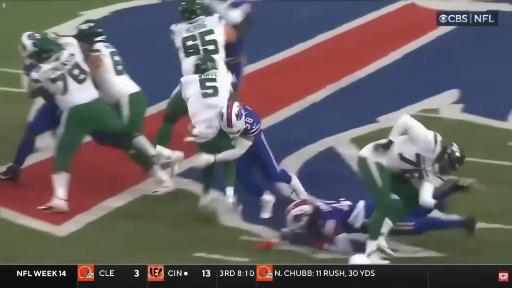Helmet: (19, 32, 62, 63), (436, 143, 465, 174), (286, 200, 314, 231), (74, 20, 106, 44), (222, 102, 245, 135), (19, 32, 41, 59), (180, 0, 204, 21), (195, 55, 217, 74), (348, 254, 370, 264)
Jersey: (29, 38, 98, 110), (360, 129, 443, 187), (171, 14, 227, 76), (180, 71, 232, 130), (90, 43, 141, 103), (312, 199, 365, 235), (240, 106, 261, 136), (226, 39, 245, 62)
Player: (74, 20, 183, 194), (21, 34, 123, 212), (358, 115, 465, 263), (195, 102, 307, 218), (171, 0, 236, 82), (0, 94, 61, 181), (282, 198, 375, 254), (180, 56, 232, 153), (0, 100, 60, 181), (0, 102, 60, 181), (205, 0, 251, 92)
